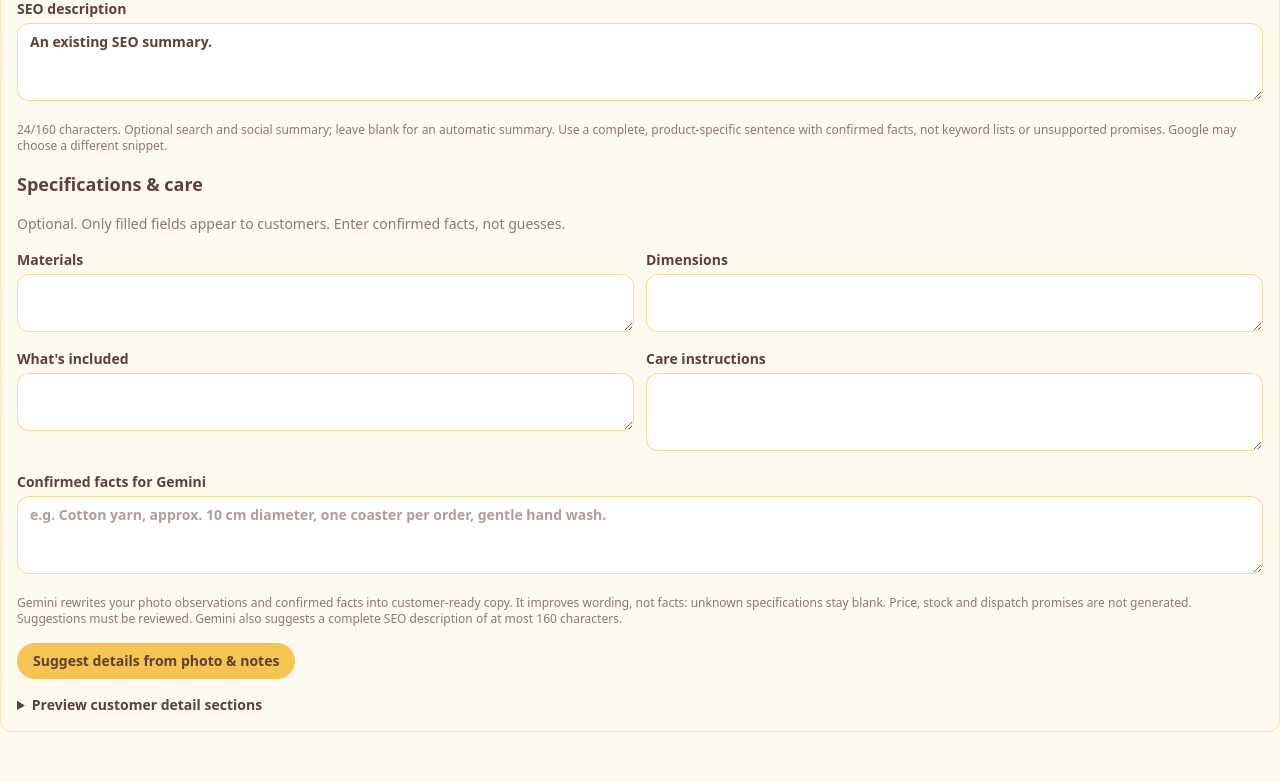
Test: ProductDetailsEditor › sends confirmed notes and current facts, then waits for selective approval
Replace the text in the text box labelled "Confirmed facts for Gemini" with "Cotton yarn. Size unknown." at coordinates (640, 535), box [17, 496, 1263, 574]
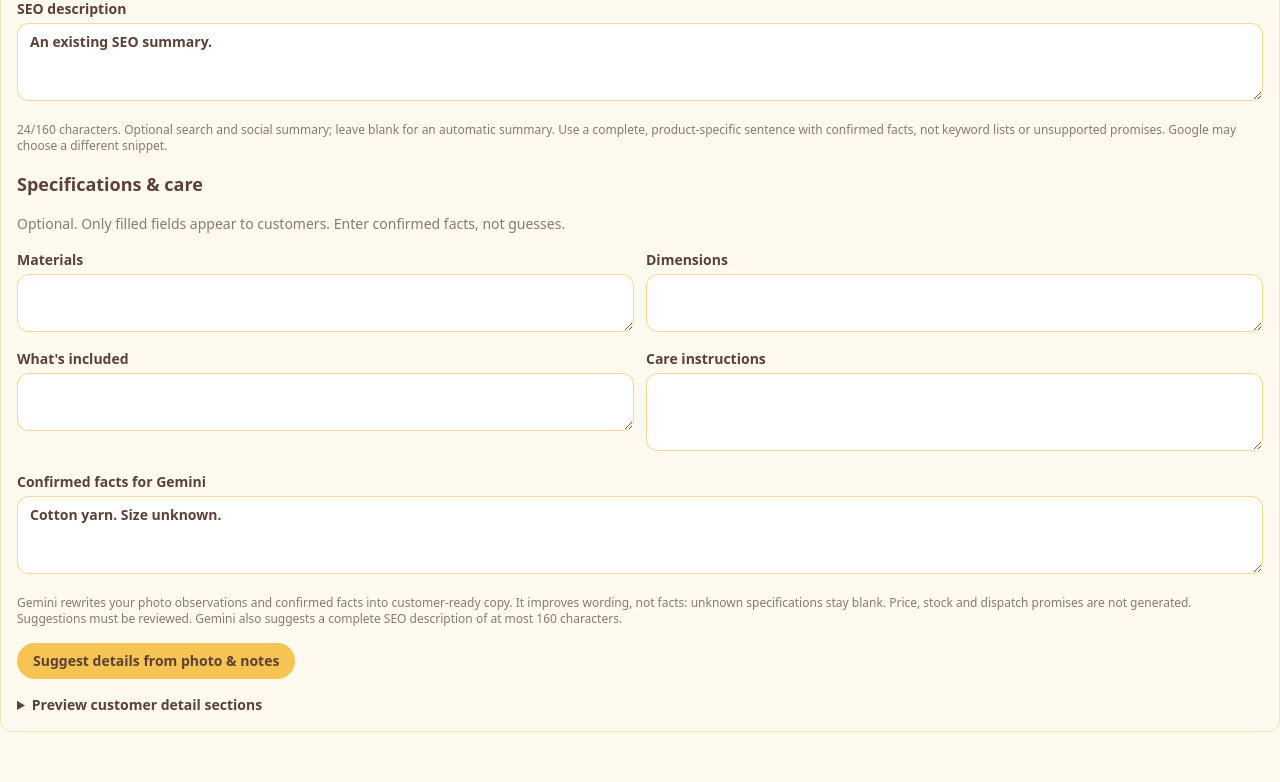
Click the button "Suggest details from photo & notes".
click(156, 661)  # box [17, 643, 295, 679]
(page scrolled)
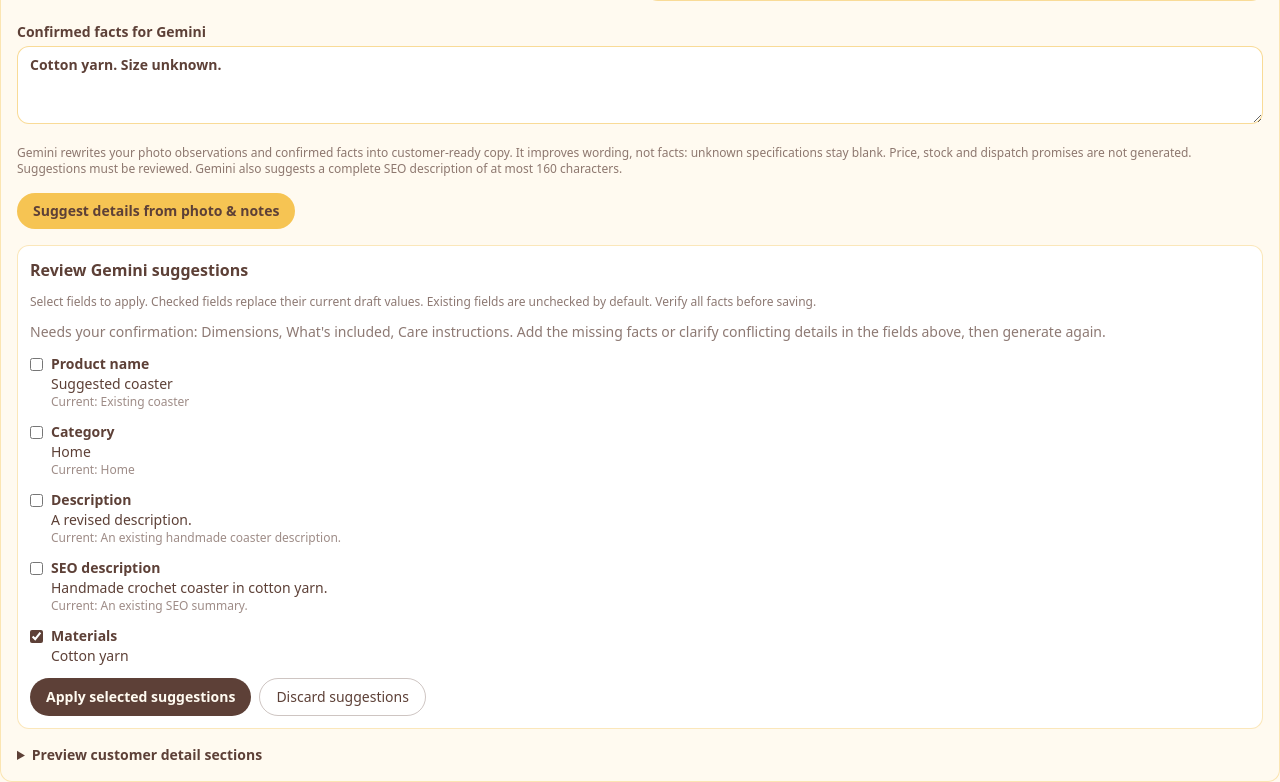
Result: the heading "Review Gemini suggestions" is shown at [30, 259, 248, 281]
Result: the checkbox labelled "Materials Cotton yarn" is checked at [30, 630, 43, 643]
Result: the checkbox labelled "Product name Suggested coaster Current: Existing coaster" is not checked at [30, 358, 43, 371]
Click the button "Apply selected suggestions".
click(141, 697)  # box [30, 678, 251, 716]
(page scrolled)
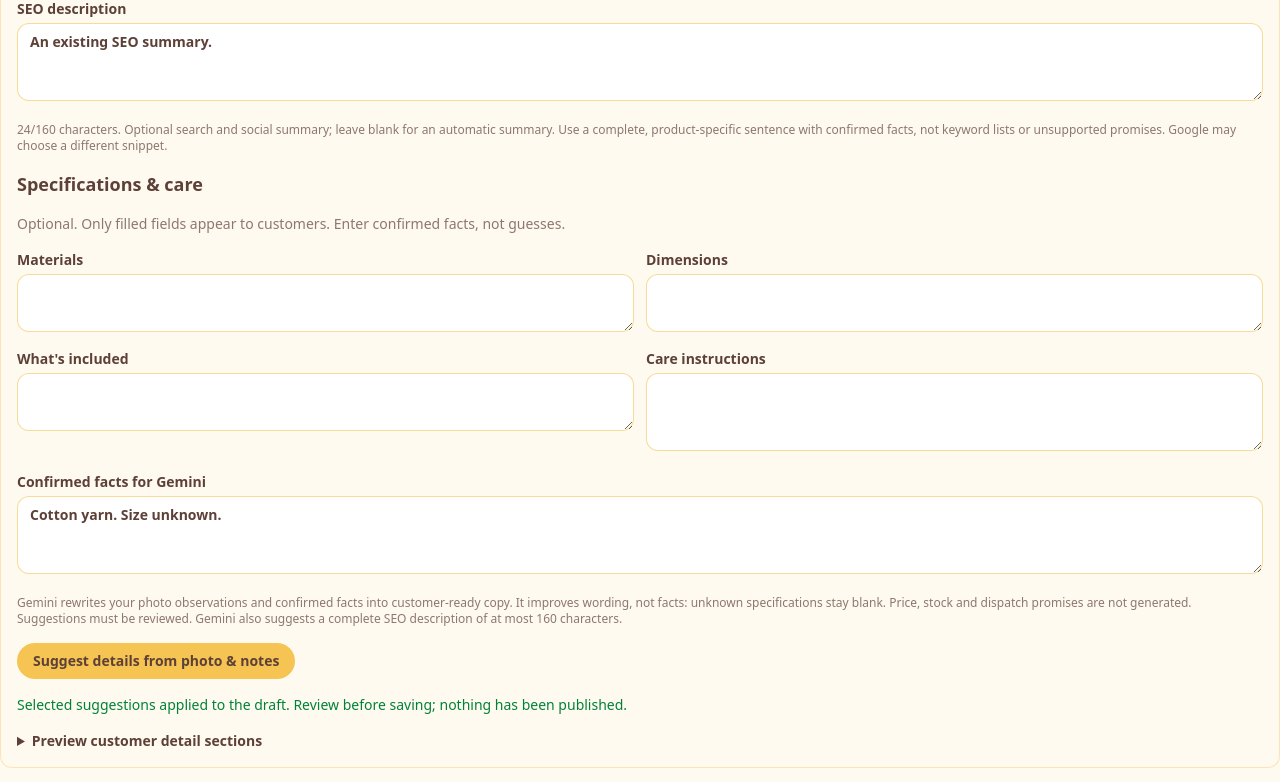
Result: the message shows "nothing has been published" at [17, 695, 627, 714]
